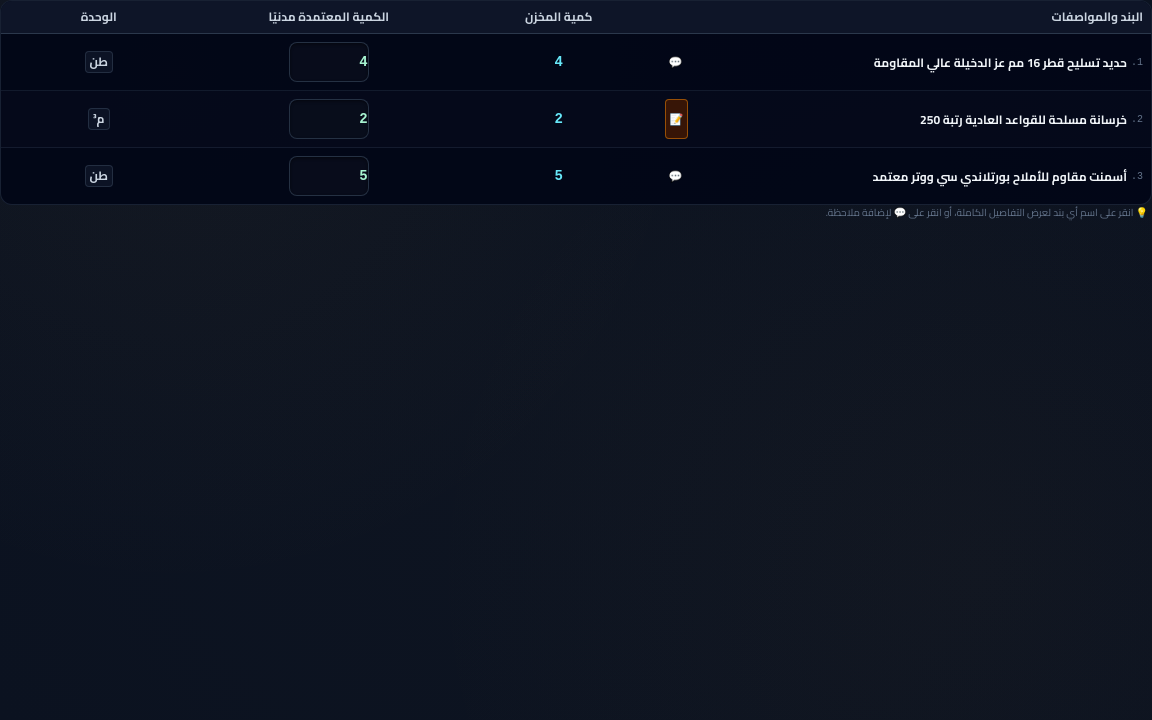
Test case: SiteReceiptItemsTable Component › displays full item details drawer when clicking on truncated item name
The width and height of the screenshot is (1152, 720).
Click the button "حديد تسليح قطر 16 مم عز الدخيلة عالي المقاومة".
click(909, 62)  # box x1=690 y1=42 x2=1127 y2=82
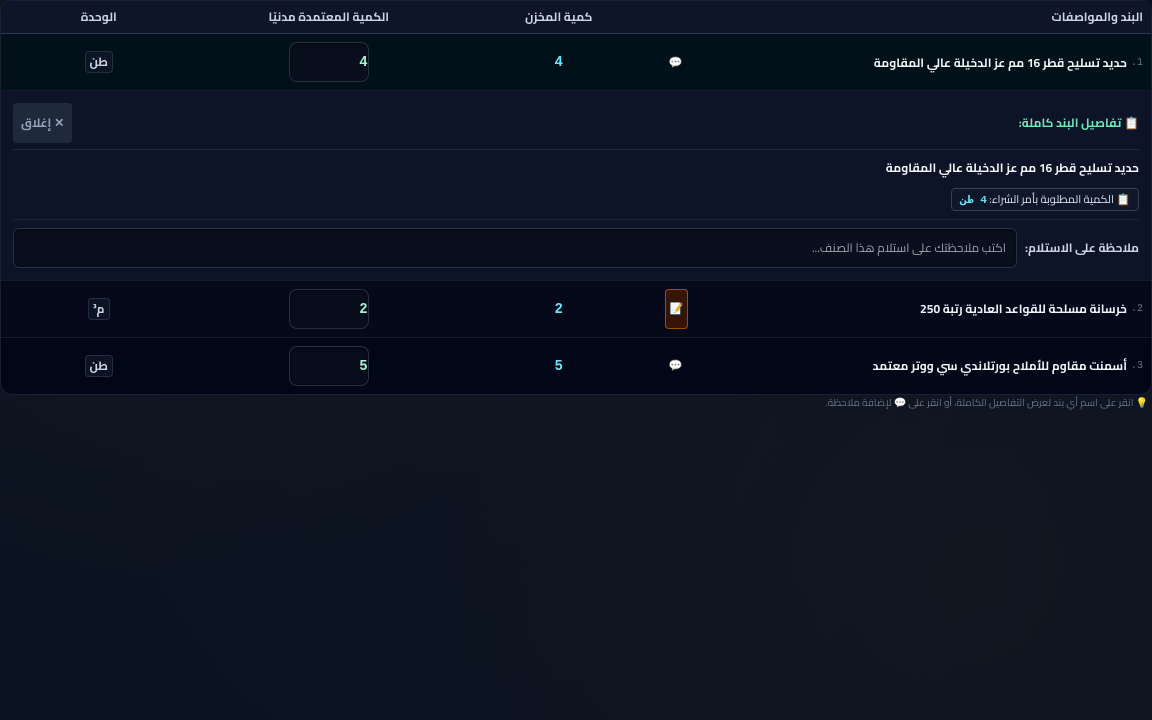
expect the text "📋 تفاصيل البند كاملة:" is shown: met, box x1=1019 y1=115 x2=1139 y2=131
